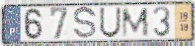3: (152, 6, 172, 39)
6: (23, 6, 45, 41)
7: (49, 6, 70, 42)
M: (121, 6, 151, 39)
S: (72, 5, 98, 42)
U: (98, 7, 122, 40)
